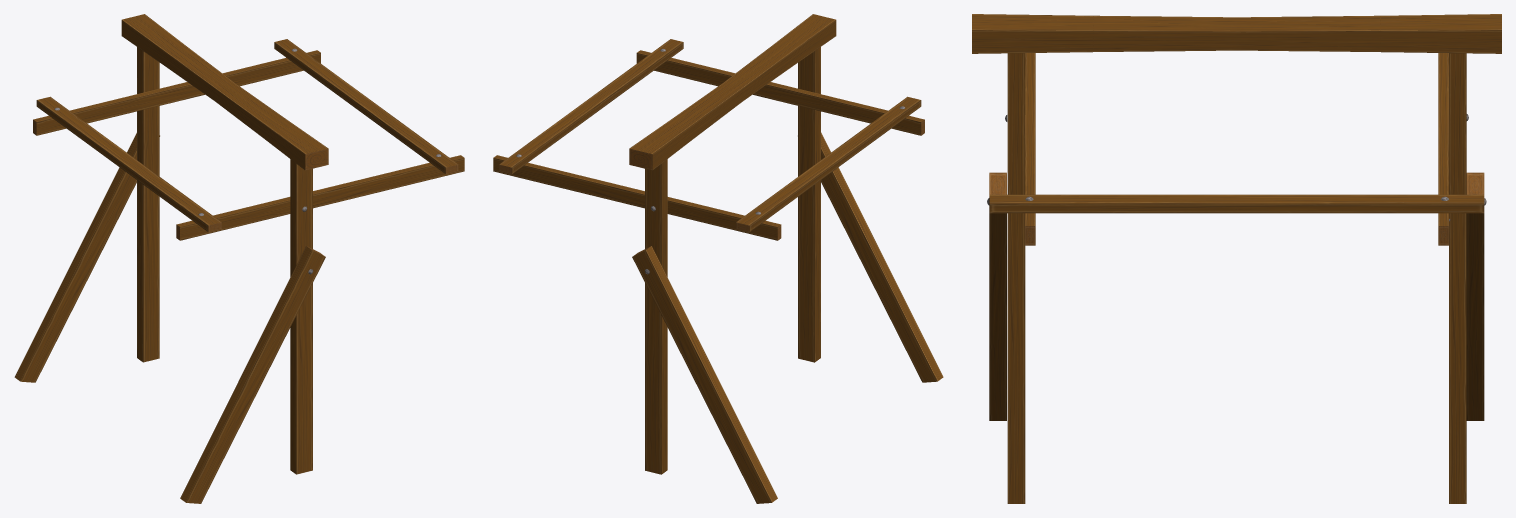
The model's file is SM_MarketStallStructure.fbx.
3 renders of one model, left to right at view 1: azimuth 30°, elevation 25°; view 2: azimuth 150°, elevation 25°; view 3: azimuth 270°, elevation 25°, orthographic. The views are drawn at different scales.
Visible parts, largest first — view 1: SM_MarketStallStructure_LOD0; view 2: SM_MarketStallStructure_LOD0; view 3: SM_MarketStallStructure_LOD0.
Boxes of the visible parts, x1=… form: SM_MarketStallStructure_LOD0: x1=14, y1=14, x2=464, y2=503; SM_MarketStallStructure_LOD0: x1=493, y1=14, x2=943, y2=503; SM_MarketStallStructure_LOD0: x1=972, y1=14, x2=1501, y2=503.
Bounding box in the file's own units: 274 × 300 × 297.
